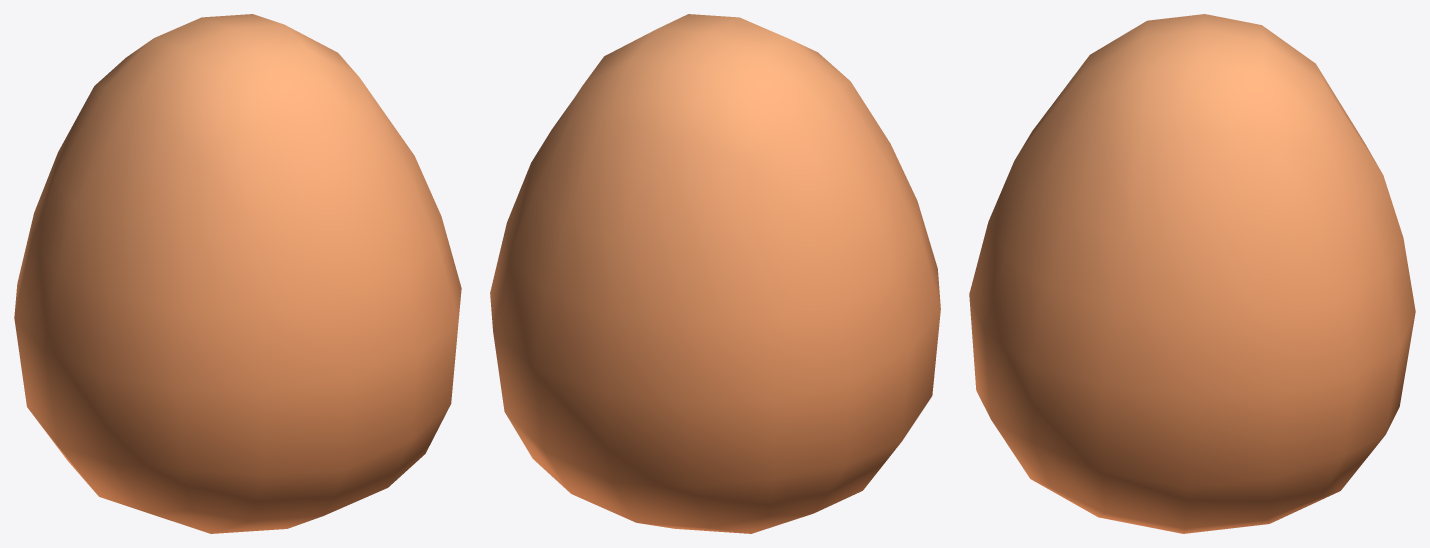
Rendered from Farm_Animal_Product_Egg.fbx.
The picture shows the model from 3 angles, left to right: view 1: azimuth 30°, elevation 25°; view 2: azimuth 150°, elevation 25°; view 3: azimuth 270°, elevation 25°; orthographic projection.
Visible parts, largest first — view 1: Farm_Animal_Product_Egg; view 2: Farm_Animal_Product_Egg; view 3: Farm_Animal_Product_Egg.
Boxes of the visible parts, left/top/right/bottom form: Farm_Animal_Product_Egg: left=14, top=14, right=461, bottom=533; Farm_Animal_Product_Egg: left=490, top=14, right=940, bottom=533; Farm_Animal_Product_Egg: left=969, top=14, right=1415, bottom=533.
Bounding box in the file's own units: 21.48 × 25.3 × 21.46.
